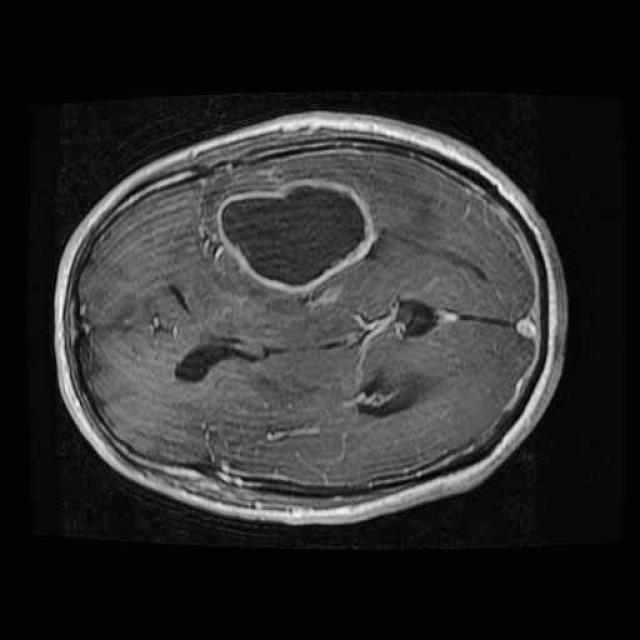Non-Tumor: (209, 168, 385, 300)
